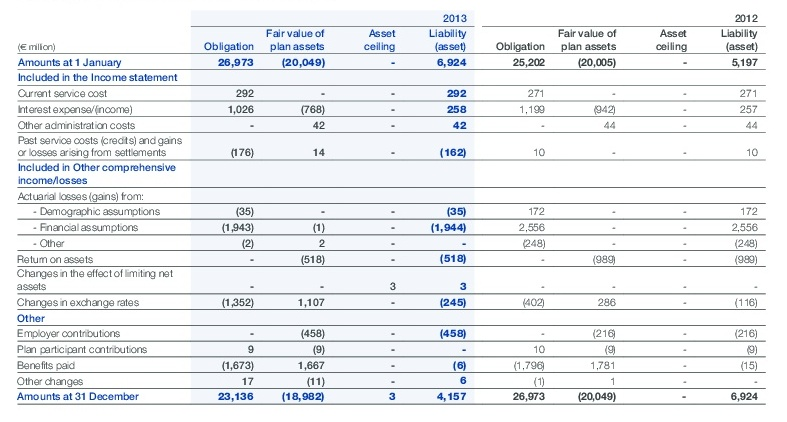table: (0, 0, 787, 422)
